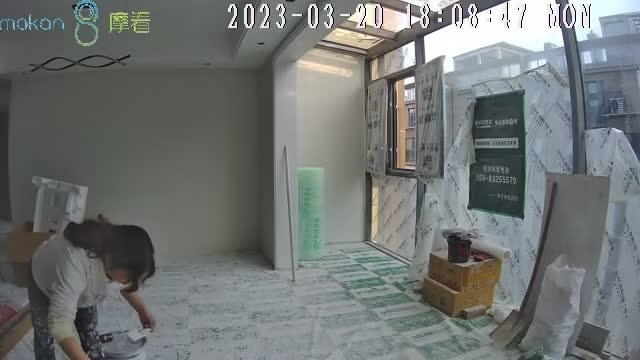people: (27, 215, 157, 360)
window: (363, 2, 640, 354)
